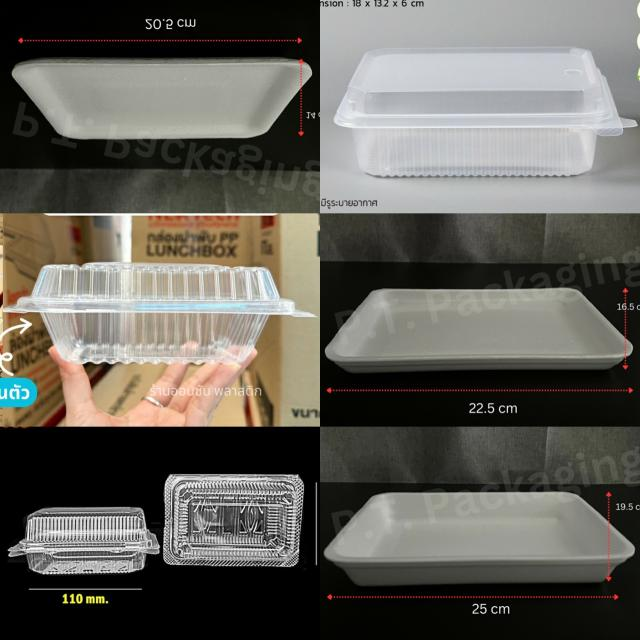Single-Use-Plastic: (334, 48, 637, 176), (6, 262, 310, 364), (324, 491, 634, 586), (325, 288, 633, 373), (13, 58, 311, 140), (164, 475, 304, 566), (9, 508, 160, 574)
